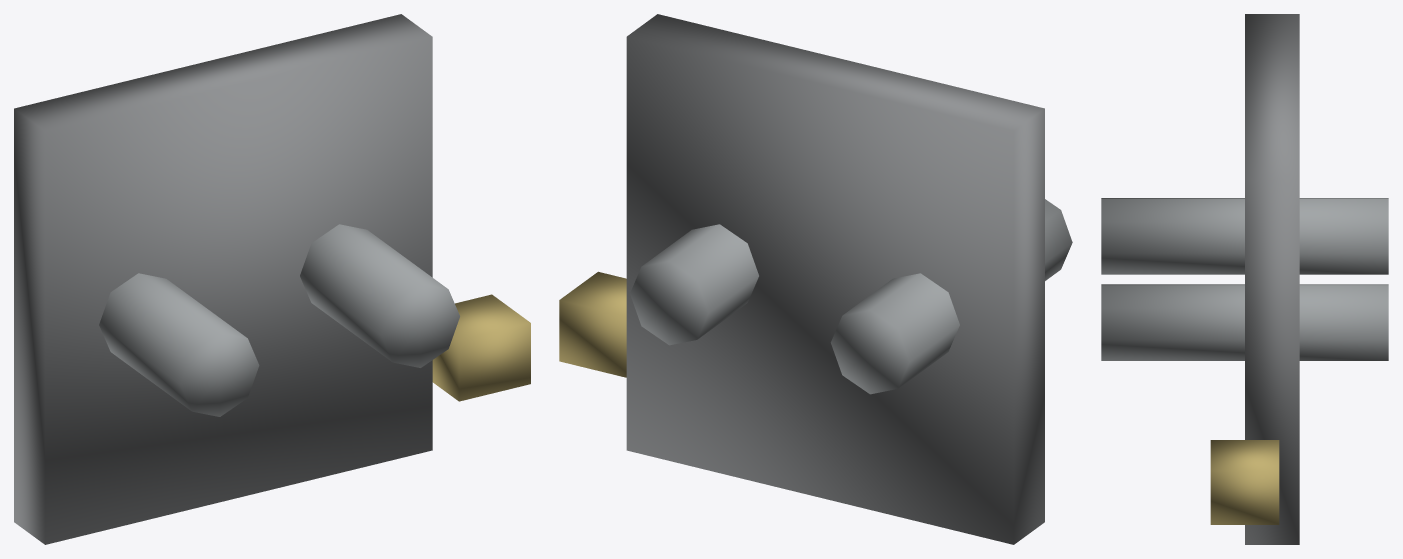
Rendered from pipe_penetration_02.glb.
3 views of the same model, side by side, from view 1: azimuth 30°, elevation 25°; view 2: azimuth 150°, elevation 25°; view 3: azimuth 270°, elevation 25° (orthographic). The views are drawn at different scales.
Visible parts, largest first — view 1: world; view 2: world; view 3: world.
Part boxes in pixels (bbox=[...]): world: bbox=[14, 14, 530, 544]; world: bbox=[559, 14, 1072, 544]; world: bbox=[1101, 14, 1388, 544].
Bounding box in the file's own units: 0.624 × 0.5292 × 0.378.
